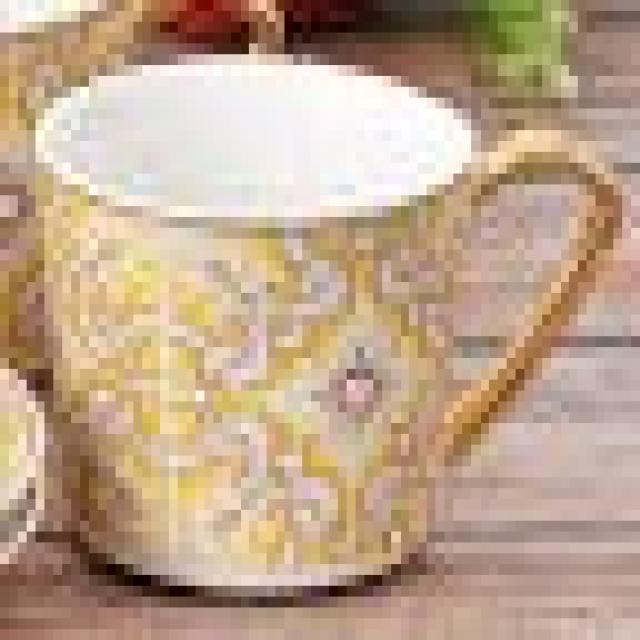taza: (21, 55, 626, 614)
